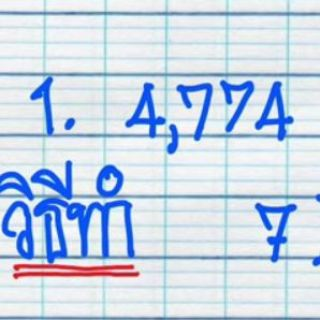.: (60, 114, 78, 137)
1: (28, 75, 56, 139)
4: (253, 80, 296, 142), (124, 81, 167, 140)
7: (251, 198, 299, 265), (174, 80, 214, 143), (218, 77, 257, 134)
